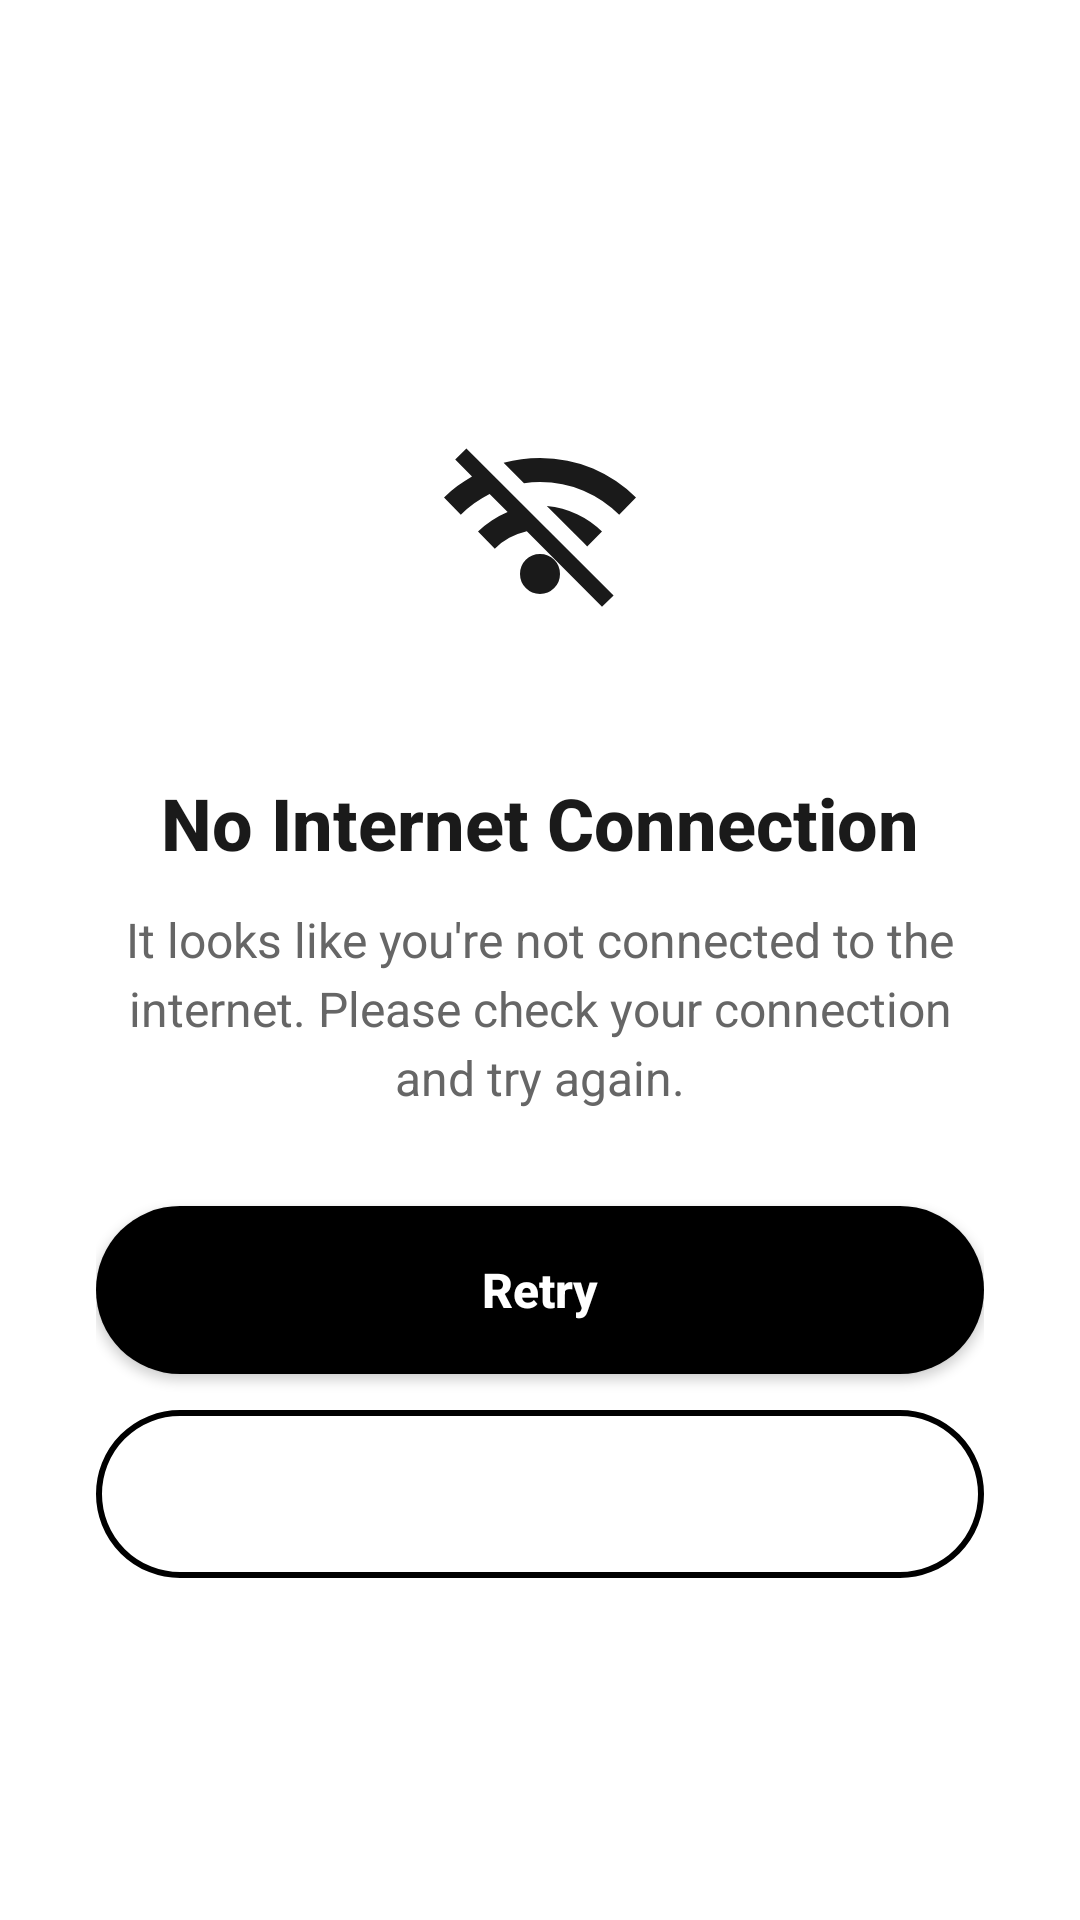

Icon bounding boxes for this 1080px x 1920px phone screenshot, format bbox=(x1, y1, x2, y2):
No Internet Connection: bbox=(444, 448, 636, 607)
